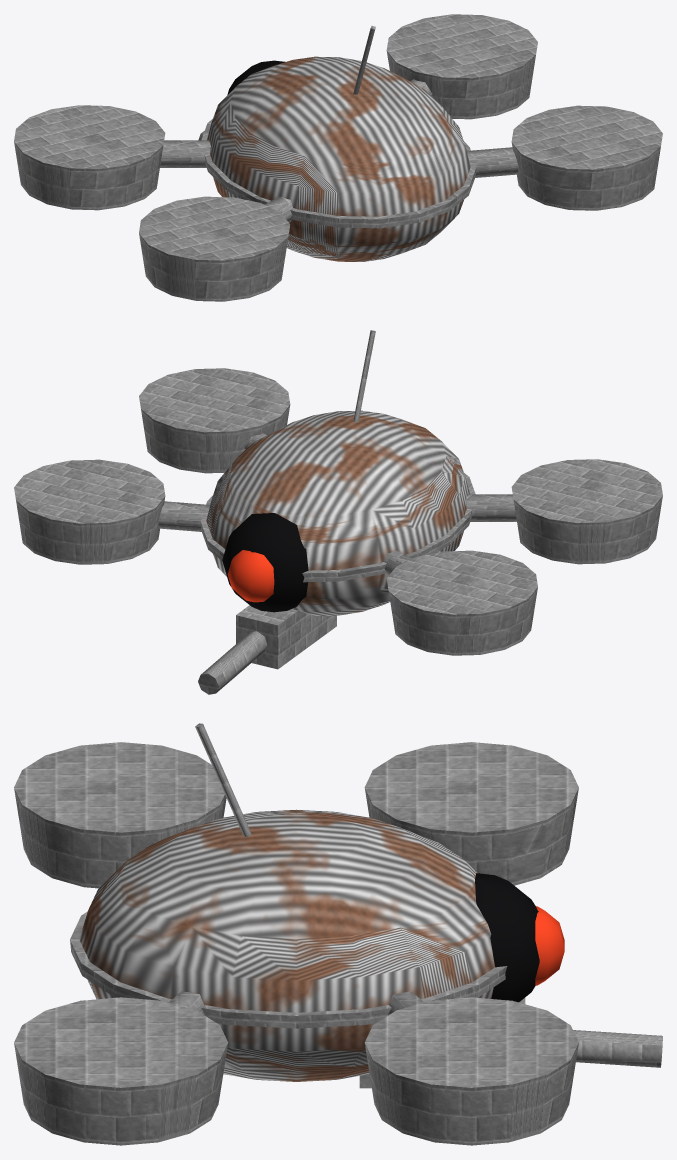
File: drone_heavy.obj
3 renders of one model, top to bottom at view 1: azimuth 30°, elevation 25°; view 2: azimuth 150°, elevation 25°; view 3: azimuth 270°, elevation 25°, orthographic. The views are drawn at different scales.
Size of the model in its own units: 2.27 by 1.07 by 1.8.
Materials: 5 (3 with a texture image).
